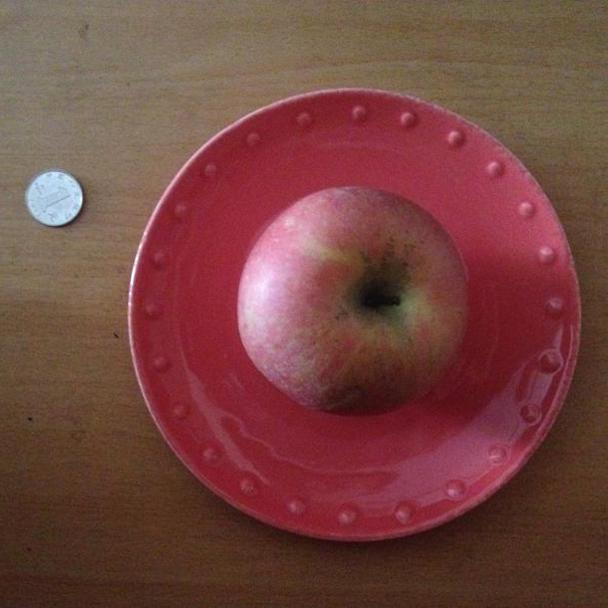apple: (233, 184, 480, 422)
